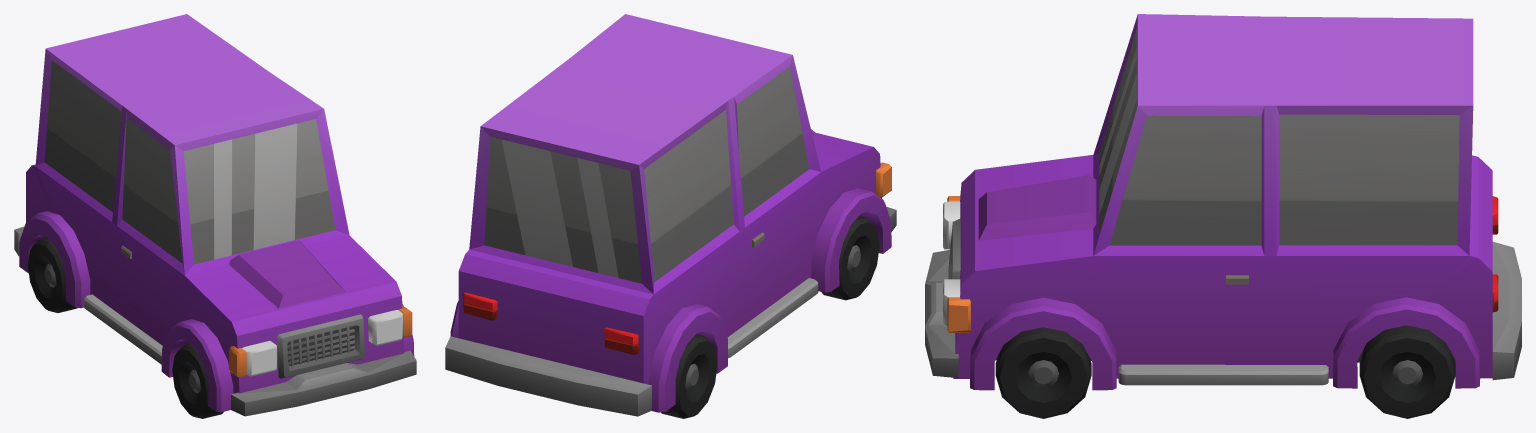
The model's file is Car_5_12.glb.
The picture shows the model from 3 angles, left to right: view 1: azimuth 30°, elevation 25°; view 2: azimuth 150°, elevation 25°; view 3: azimuth 270°, elevation 25°; orthographic projection. The views are drawn at different scales.
Parts seen in each view (by area): view 1: Car_5_12, W_br, W_fr; view 2: Car_5_12, W_br, W_fr; view 3: Car_5_12, W_bl, W_fl.
Boxes of the visible parts, left/top/right/bottom form: Car_5_12: left=14, top=14, right=416, bottom=416; W_br: left=27, top=237, right=77, bottom=312; W_fr: left=172, top=343, right=223, bottom=418; Car_5_12: left=445, top=14, right=896, bottom=416; W_br: left=661, top=334, right=717, bottom=418; W_fr: left=821, top=216, right=879, bottom=300; Car_5_12: left=925, top=14, right=1521, bottom=390; W_bl: left=1359, top=325, right=1455, bottom=418; W_fl: left=995, top=327, right=1091, bottom=418.
Bounding box in the file's own units: 1.13 × 1.3 × 2.33.
Materials: 6 (6 with a texture image).
